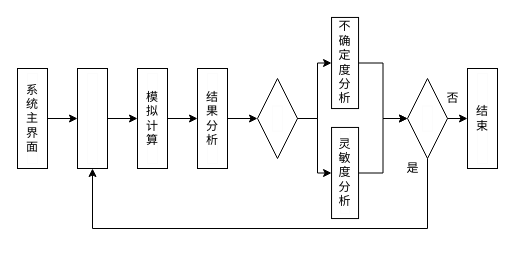
Image size: 515x255. Some labels were removed from this diagram. The centre of each missing label's shape, as x and y in pixels:
"参数输入" goes at point 92,118.
"调整参数" goes at point 427,118.
"选择" goes at point 277,118.
